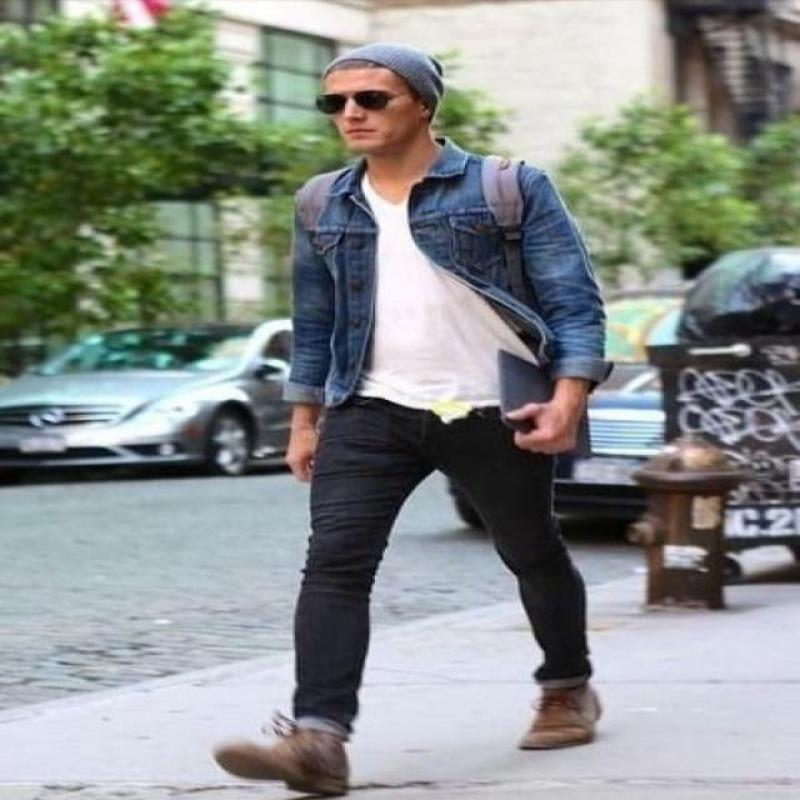jacket: (282, 131, 610, 442)
short sleeve shirt: (350, 174, 537, 415)
trousers: (292, 392, 592, 737)
